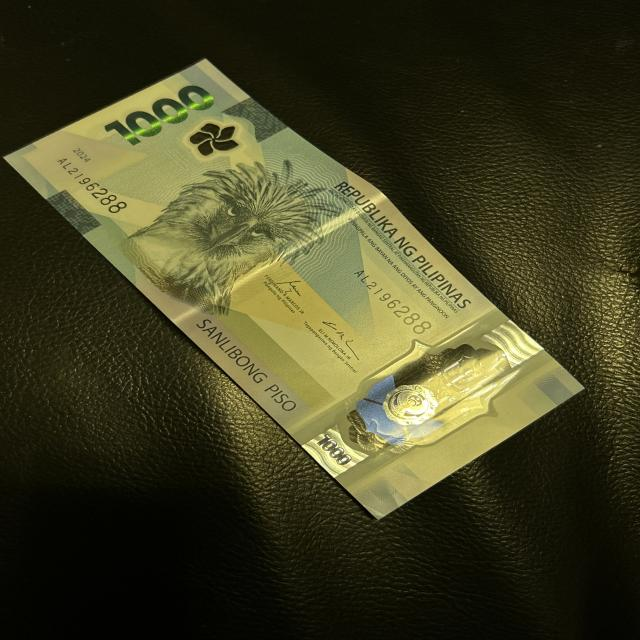clear_window: (347, 336, 529, 452)
eagle: (148, 165, 339, 307)
sampaguita: (183, 116, 244, 160)
